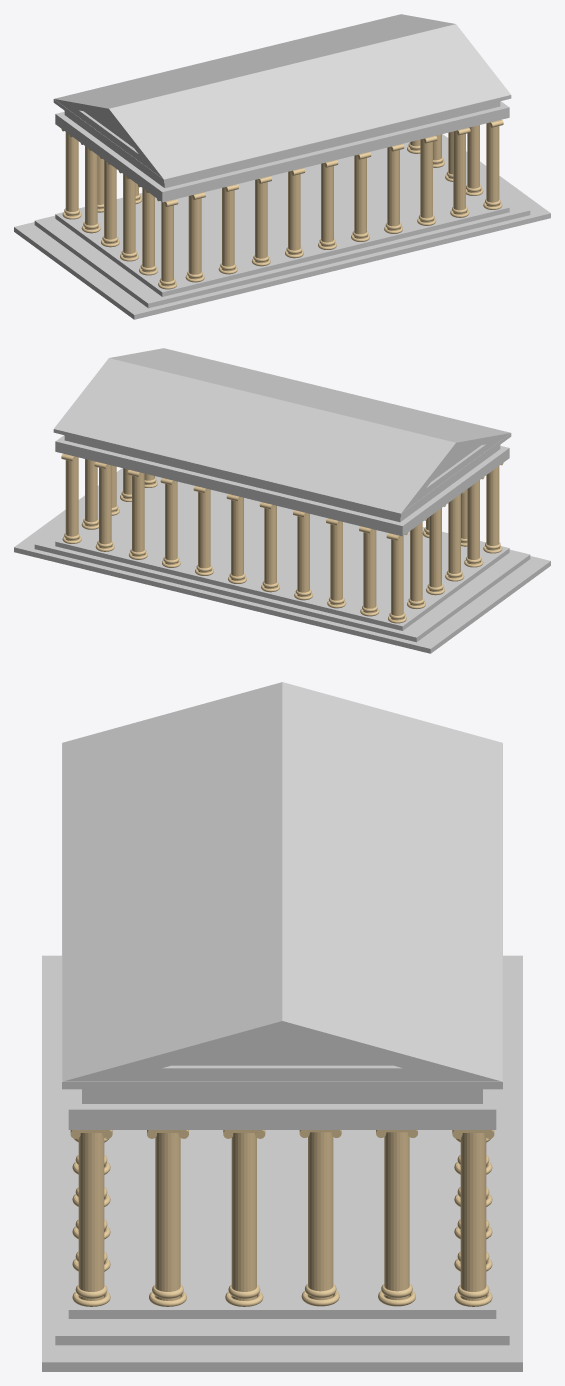
File: 胜利神庙.fbx
3 views of the same model, one above another, from view 1: azimuth 30°, elevation 25°; view 2: azimuth 150°, elevation 25°; view 3: azimuth 270°, elevation 25° (orthographic). The views are drawn at different scales.
Visible parts, largest first — view 1: 立方体.014, 立方体.009, 立方体.011, 立方体.008, 立方体.010, 立方体.012, 立方体.013, 柱体.036, 柱体.116, 柱体.040, 柱体.088, 柱体.092 (+12 smaller); view 2: 立方体.014, 立方体.009, 立方体.011, 立方体.008, 立方体.010, 立方体.012, 立方体.013, 柱体.076, 柱体.080, 柱体.032, 柱体.048, 柱体.052 (+12 smaller); view 3: 立方体.014, 立方体.009, 立方体.011, 立方体.010, 立方体.008, 立方体.012, 立方体.013, 柱体.036, 柱体.080, 柱体.008, 柱体.028, 柱体.003 (+1 smaller).
Boxes of the visible parts, box(x1,y1,x2,y2) form: 立方体.014: box(54, 14, 510, 179); 立方体.009: box(55, 142, 509, 296); 立方体.011: box(14, 134, 550, 319); 立方体.008: box(55, 101, 509, 202); 立方体.010: box(34, 146, 530, 308); 立方体.012: box(64, 101, 500, 188); 立方体.013: box(53, 95, 511, 183); 柱体.036: box(486, 123, 499, 206); 柱体.116: box(188, 195, 201, 279); 柱体.040: box(65, 132, 78, 216); 柱体.088: box(420, 139, 432, 222); 柱体.092: box(387, 147, 399, 230); 立方体.014: box(54, 348, 510, 513); 立方体.009: box(55, 476, 509, 630); 立方体.011: box(14, 468, 550, 653); 立方体.008: box(55, 435, 509, 536); 立方体.010: box(34, 480, 530, 642); 立方体.012: box(64, 435, 500, 522); 立方体.013: box(53, 429, 511, 517); 柱体.076: box(363, 529, 376, 613); 柱体.080: box(65, 457, 78, 540); 柱体.032: box(486, 466, 499, 550); 柱体.048: box(132, 473, 144, 556); 柱体.052: box(165, 481, 177, 564); 立方体.014: box(62, 682, 502, 1081); 立方体.009: box(68, 1130, 496, 1318); 立方体.011: box(42, 955, 522, 1371); 立方体.010: box(55, 963, 509, 1345); 立方体.008: box(68, 1089, 496, 1129); 立方体.012: box(82, 1089, 482, 1103); 立方体.013: box(62, 743, 502, 1089); 柱体.036: box(78, 1133, 104, 1300); 柱体.080: box(460, 1133, 486, 1300); 柱体.008: box(308, 1132, 333, 1299); 柱体.028: box(155, 1133, 180, 1300); 柱体.003: box(384, 1132, 409, 1299).
Bounding box in the file's own units: 7560 × 2749 × 3780.
